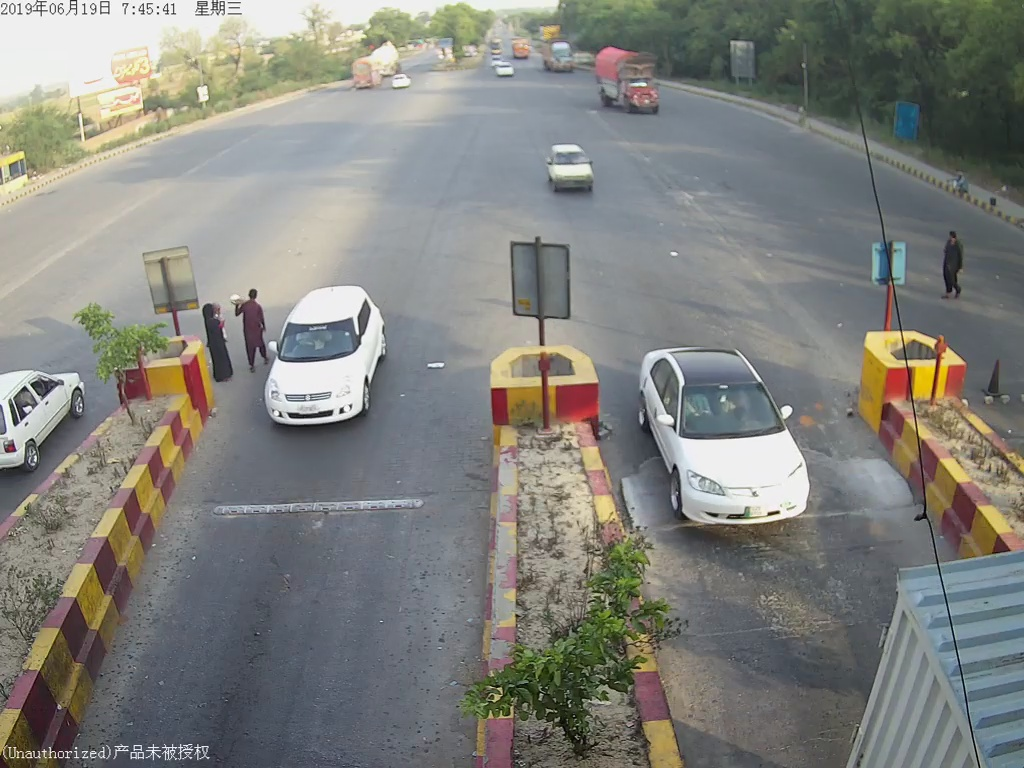Cat-1: (643, 344, 814, 531), (272, 286, 404, 429), (541, 136, 604, 198)
